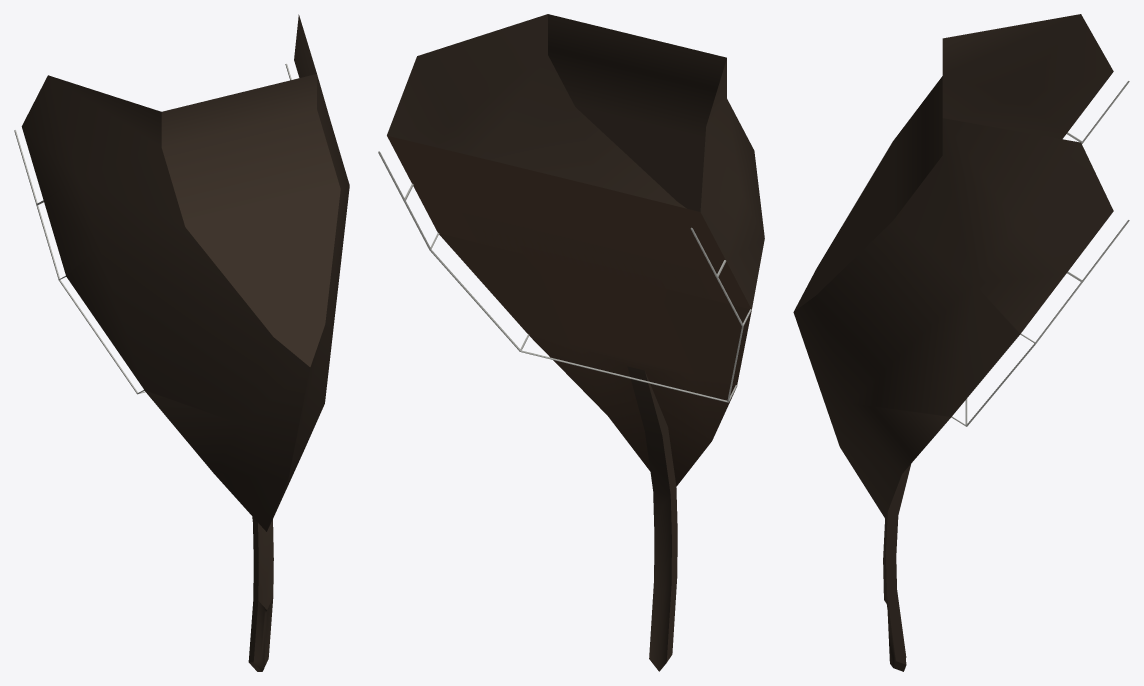
The model's file is Shipwreck.FBX.
The picture shows the model from 3 angles, left to right: view 1: azimuth 30°, elevation 25°; view 2: azimuth 150°, elevation 25°; view 3: azimuth 270°, elevation 25°; orthographic projection. The views are drawn at different scales.
Parts seen in each view (by area): view 1: Object001; view 2: Object001; view 3: Object001.
Part boxes in pixels (<box>): Object001: <box>14,14,349,671</box>; Object001: <box>378,14,764,671</box>; Object001: <box>793,14,1129,671</box>.
Size of the model in its own units: 40.45 by 80.24 by 41.15.
